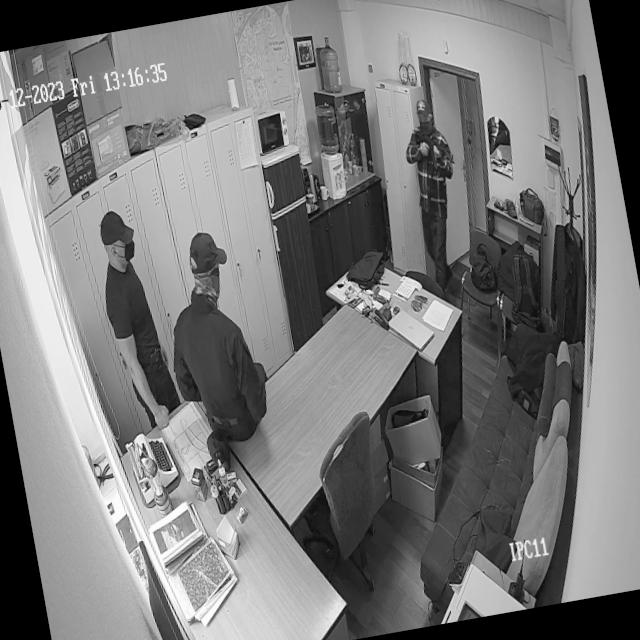gun: (412, 132, 456, 170), (492, 197, 505, 214)
person: (150, 228, 283, 470), (92, 206, 178, 424)
person with a gun: (396, 96, 478, 300)
